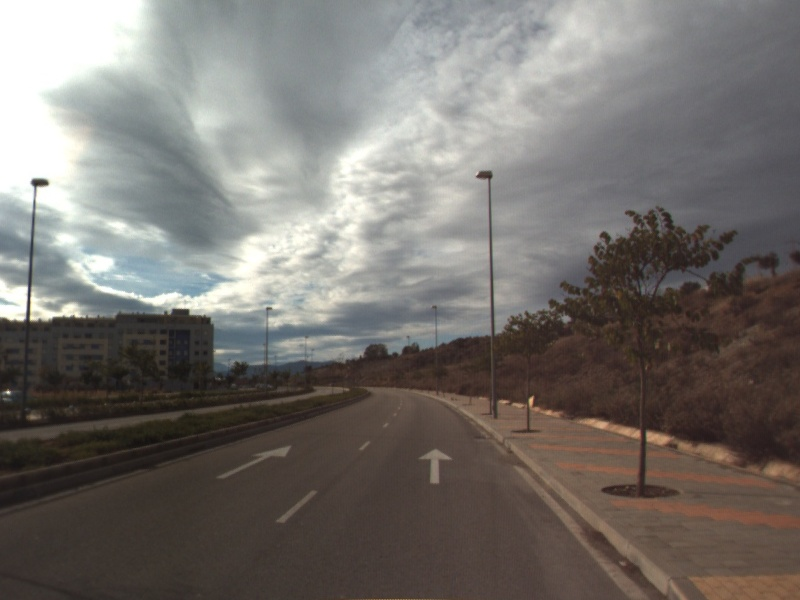STRAIGHT: (214, 443, 294, 481), (416, 446, 456, 485)
